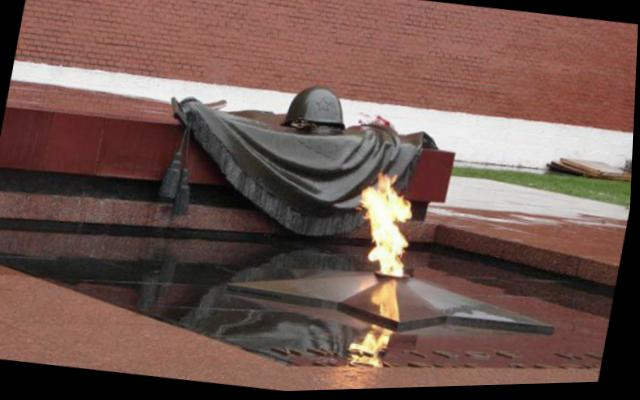fire: (361, 171, 415, 223), (368, 218, 412, 276), (353, 330, 395, 371), (373, 279, 408, 322)
